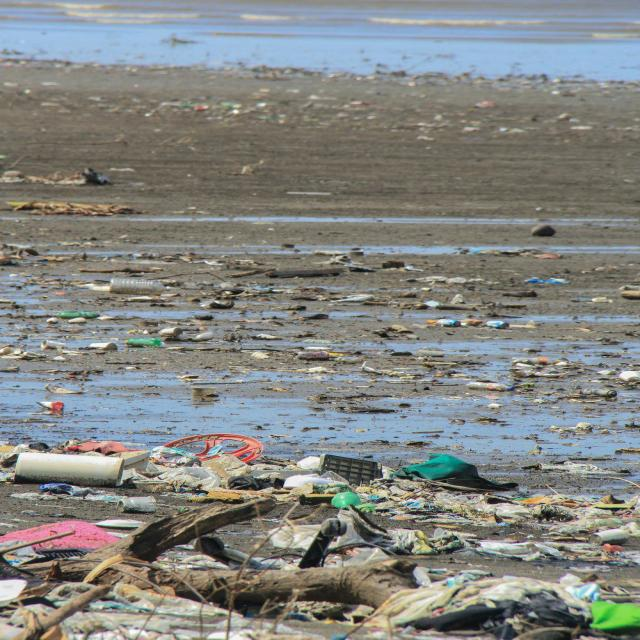plastic: (1, 436, 138, 503)
